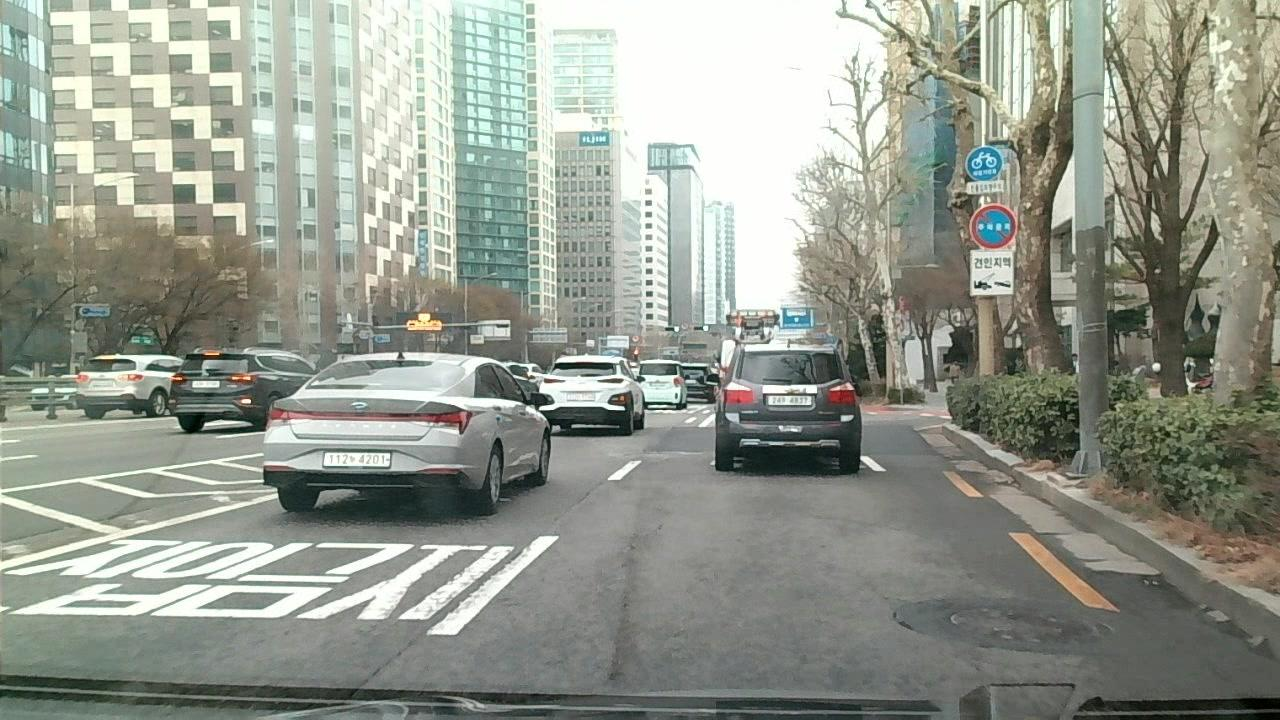vcrack: (341, 614, 449, 691), (603, 554, 638, 693), (549, 480, 610, 536)
